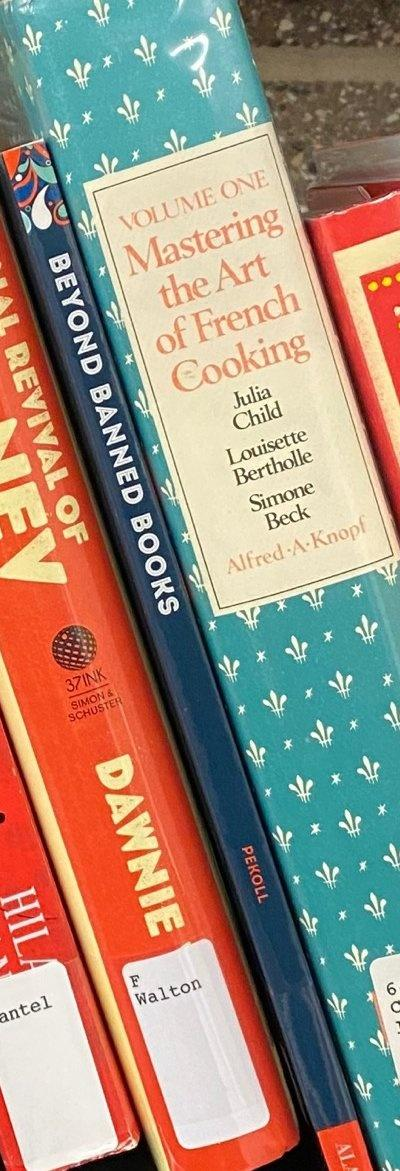call_number: (121, 938, 272, 1148)
